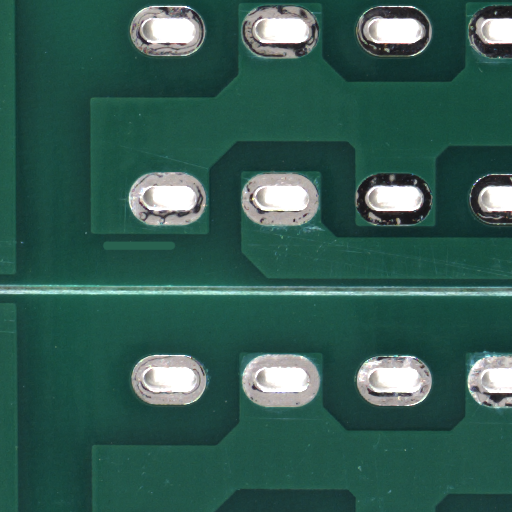Spurious_copper: (138, 245, 215, 257)
